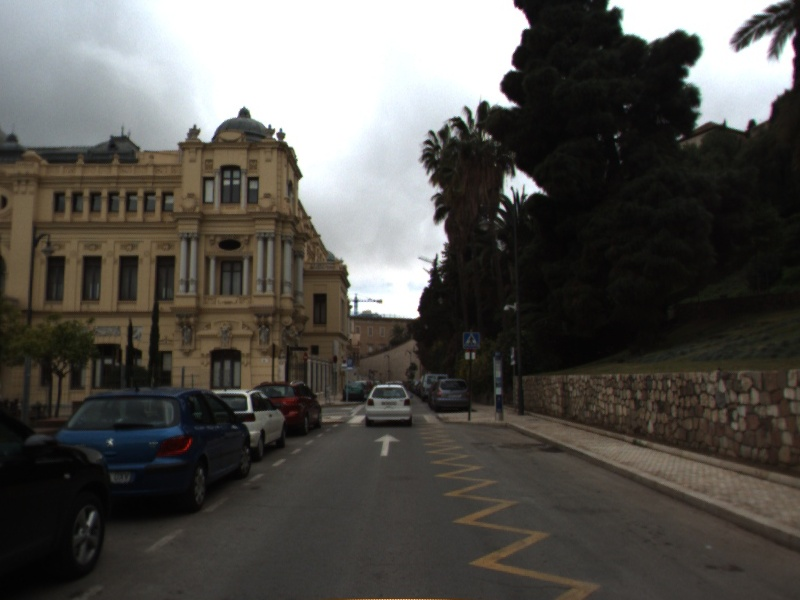STRAIGHT: (372, 432, 403, 458)
